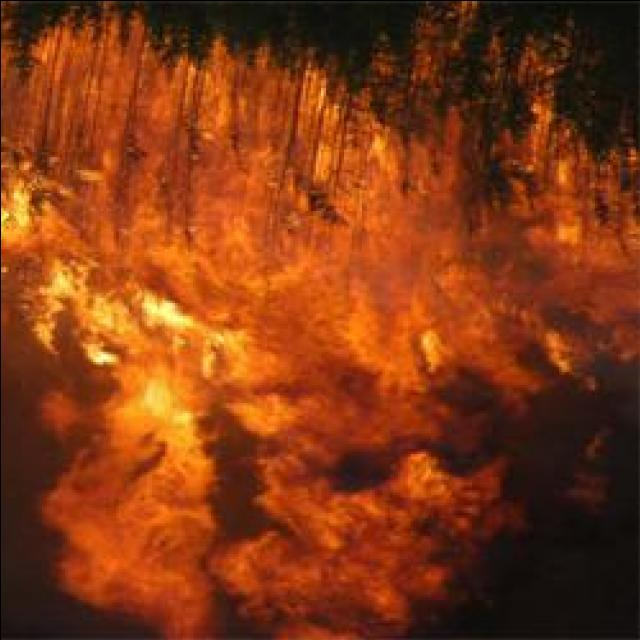fire: (104, 220, 280, 450), (270, 207, 482, 359), (250, 472, 432, 638), (0, 177, 143, 369)
smoke: (435, 358, 640, 499), (56, 462, 218, 622)
